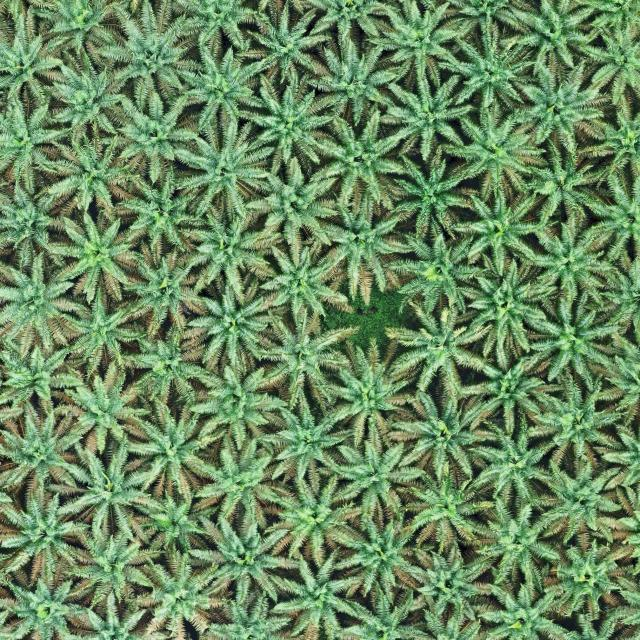Tree: (250, 304, 360, 419), (304, 197, 416, 308), (167, 198, 280, 305), (398, 229, 498, 347), (169, 114, 278, 222), (44, 436, 154, 542), (110, 394, 216, 501), (329, 418, 428, 532), (90, 0, 188, 115), (116, 232, 220, 339), (306, 106, 409, 213), (190, 512, 302, 610), (268, 543, 380, 640), (240, 77, 345, 180), (318, 334, 412, 446), (385, 300, 489, 401), (393, 459, 497, 560), (508, 57, 616, 154), (391, 388, 501, 483), (328, 501, 432, 601), (128, 541, 231, 640), (365, 0, 477, 90), (465, 253, 559, 360), (185, 274, 285, 373), (388, 139, 480, 246), (0, 246, 87, 359), (259, 396, 362, 491), (521, 208, 623, 303), (36, 126, 140, 219), (239, 152, 341, 245), (189, 429, 284, 528), (67, 518, 168, 611), (461, 347, 564, 438), (529, 294, 627, 389), (474, 494, 566, 595), (186, 361, 290, 450), (304, 32, 399, 129), (449, 184, 549, 276), (55, 288, 148, 386), (530, 370, 630, 460), (0, 487, 89, 588), (52, 209, 144, 306), (472, 418, 562, 517), (381, 70, 477, 162), (57, 365, 155, 454), (450, 106, 546, 196), (398, 542, 499, 626), (109, 91, 201, 183), (120, 316, 210, 410), (534, 454, 628, 543), (538, 536, 636, 621), (0, 399, 87, 493), (501, 0, 610, 74), (523, 130, 608, 224), (441, 30, 534, 115), (259, 238, 350, 323), (246, 3, 333, 88), (180, 43, 262, 130), (126, 165, 207, 253), (276, 474, 362, 556), (38, 58, 126, 136), (0, 169, 64, 275), (0, 88, 71, 182), (0, 9, 67, 105), (329, 579, 431, 640), (0, 339, 87, 410), (0, 574, 80, 640), (476, 579, 557, 640), (143, 485, 209, 558)
